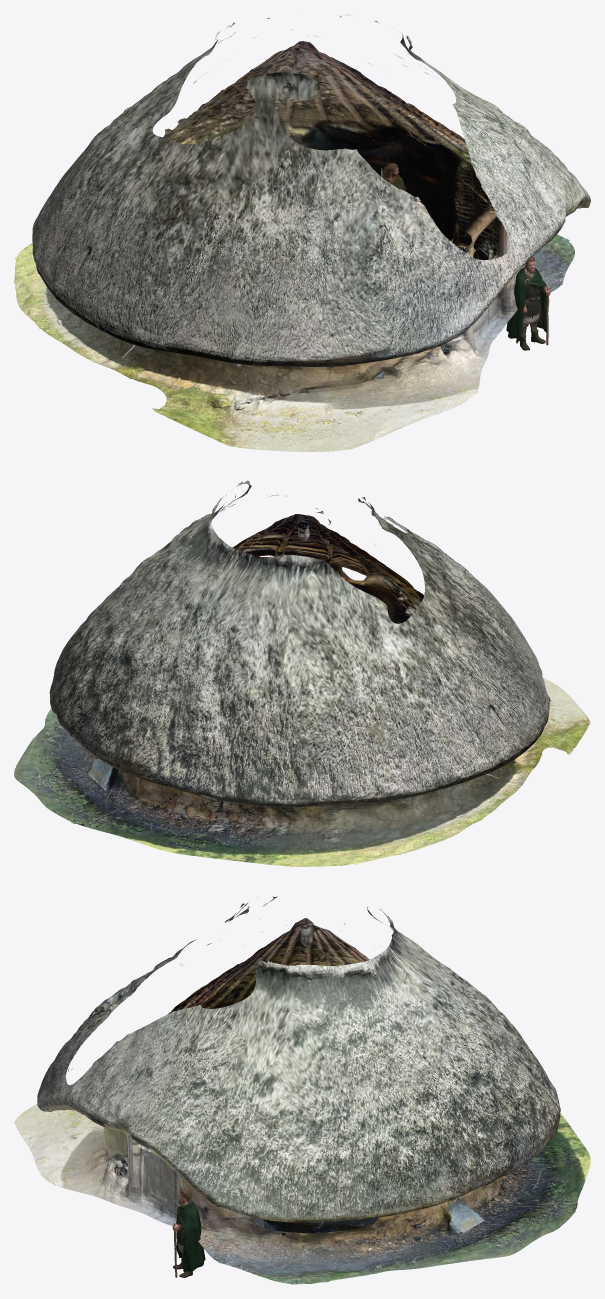
Rendered from GStest2.glb.
3 views of the same model, one above another, from view 1: azimuth 30°, elevation 25°; view 2: azimuth 150°, elevation 25°; view 3: azimuth 270°, elevation 25° (orthographic). The views are drawn at different scales.
Parts seen in each view (by area): view 1: Mesh_2, Mesh_1, Mesh_0, Mesh1.0; view 2: Mesh_1, Mesh_2, Mesh_0; view 3: Mesh_1, Mesh_0, Mesh_2, Mesh1.0.
Part boxes in pixels (left/top/right/bottom): Mesh_2: left=24, top=18, right=581, bottom=451; Mesh_1: left=32, top=14, right=590, bottom=378; Mesh_0: left=14, top=20, right=588, bottom=422; Mesh1.0: left=506, top=256, right=550, bottom=350; Mesh_1: left=49, top=481, right=535, bottom=848; Mesh_2: left=31, top=495, right=590, bottom=867; Mesh_0: left=14, top=480, right=529, bottom=865; Mesh_1: left=37, top=907, right=577, bottom=1284; Mesh_0: left=36, top=896, right=584, bottom=1277; Mesh_2: left=14, top=896, right=590, bottom=1272; Mesh1.0: left=172, top=1189, right=205, bottom=1277.
Size of the model in its own units: 12.44 by 7.07 by 13.3.
Materials: 6 (6 with a texture image).
